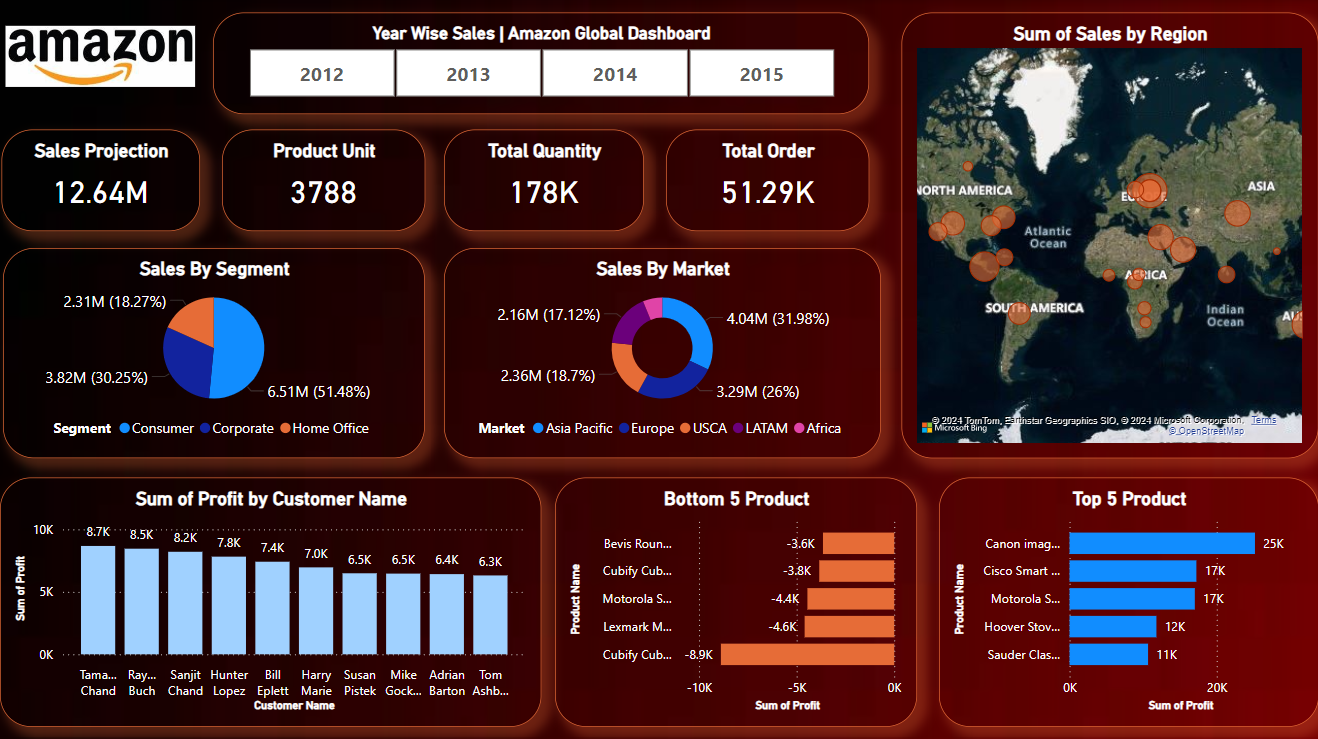

Layout of this report page (visuals, bound fields, positions):
{"tool":"powerbi","page":{"name":"Page 1","canvas":[1280,720],"ordinal":0},"visuals":[{"type":"image","box":[0,0,194.6,111.5],"z":0},{"type":"slicer","title":"Year Wise Sales | Amazon Global Dashboard","fields":{"Values":["Orders.Year"]},"box":[207.3,13,636.4,98.8],"z":1000},{"type":"card","title":"Sales Projection","fields":{"Values":["Orders.Sales"]},"box":[1.6,126.3,192.7,98.8],"z":2000},{"type":"card","title":"Product Unit ","fields":{"Values":["Orders.Product Name"]},"box":[215.4,126.3,197.5,98.8],"z":3000},{"type":"card","title":"Total Order","fields":{"Values":["Orders.Order ID"]},"box":[646.1,126.3,197.5,98.8],"z":4000},{"type":"pieChart","title":"Sales By Segment","fields":{"Y":["Orders.Sales"],"Category":["Orders.Segment"]},"box":[3.2,241.3,409.7,204],"z":5000},{"type":"donutChart","title":"Sales By Market","fields":{"Y":["Orders.Sales"],"Category":["Orders.Market"]},"box":[430.7,241.3,424.2,204],"z":6000},{"type":"columnChart","fields":{"Category":["Orders.Customer Name"],"Y":["Orders.Profit"]},"box":[0,464.9,525.4,241.9],"z":7000},{"type":"barChart","title":"Bottom 5 Product","fields":{"Category":["Orders.Product Name"],"Y":["Orders.Profit"]},"box":[538.6,464.9,351.5,241.9],"z":8000},{"type":"barChart","title":"Top 5 Product","fields":{"Y":["Orders.Profit"],"Category":["Orders.Product Name"]},"box":[910.9,464.9,368.5,241.9],"z":9000},{"type":"map","fields":{"Category":["Orders.Region"],"Size":["Orders.Sales"]},"box":[875,13.2,404.4,432.8],"z":10000},{"type":"card","title":"Total Quantity","fields":{"Values":["Orders.Quantity"]},"box":[430.7,126.3,194.3,98.8],"z":11000}]}

Visuals, with their boxes in screenshot pixels (x1, y1, x2, y2), scaled from the page's 1280x720 canvas onto the 1318x739 screenshot:
image: Rect(0, 0, 200, 114)
"Year Wise Sales | Amazon Global Dashboard" slicer: Rect(213, 13, 869, 115)
"Sales Projection" card: Rect(2, 130, 200, 231)
"Product Unit " card: Rect(222, 130, 425, 231)
"Total Order" card: Rect(665, 130, 869, 231)
"Sales By Segment" pieChart: Rect(3, 248, 425, 457)
"Sales By Market" donutChart: Rect(443, 248, 880, 457)
columnChart - Orders.Customer Name x Orders.Profit: Rect(0, 477, 541, 725)
"Bottom 5 Product" barChart: Rect(555, 477, 917, 725)
"Top 5 Product" barChart: Rect(938, 477, 1317, 725)
map - Orders.Region x Orders.Sales: Rect(901, 14, 1317, 458)
"Total Quantity" card: Rect(443, 130, 644, 231)
